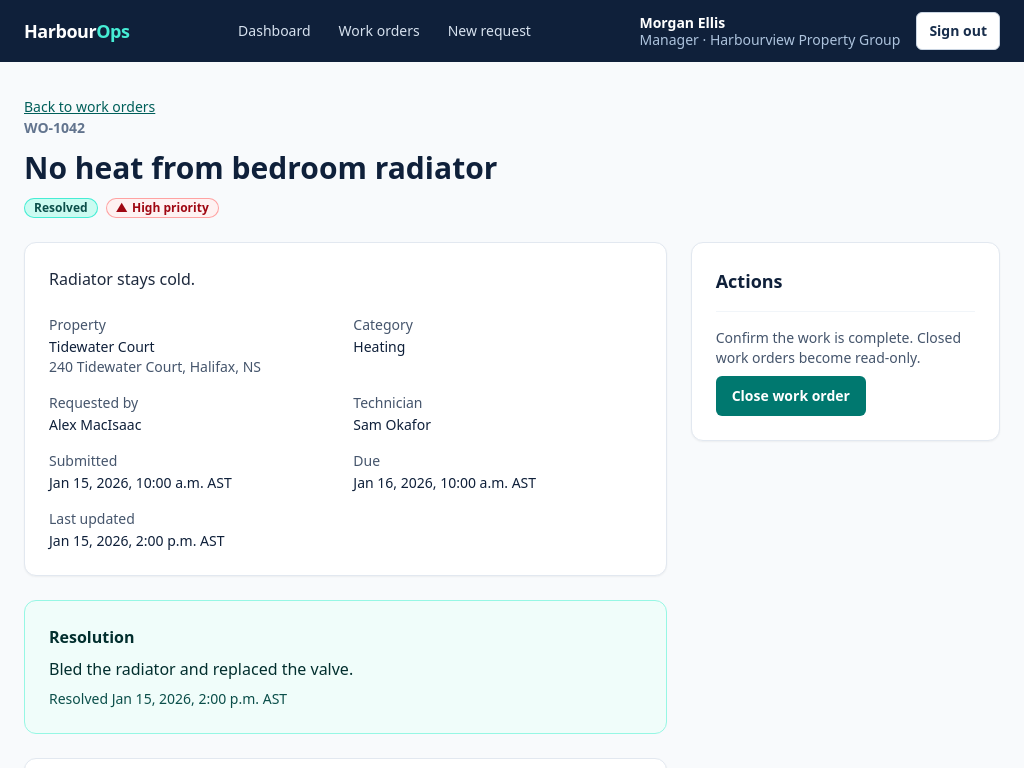
Test case: WorkOrderDetailPage › explains a stale update (409) and recovers by loading the latest version
The image size is (1024, 768).
Click the button "Close work order": (791, 396) [716, 376, 866, 416]
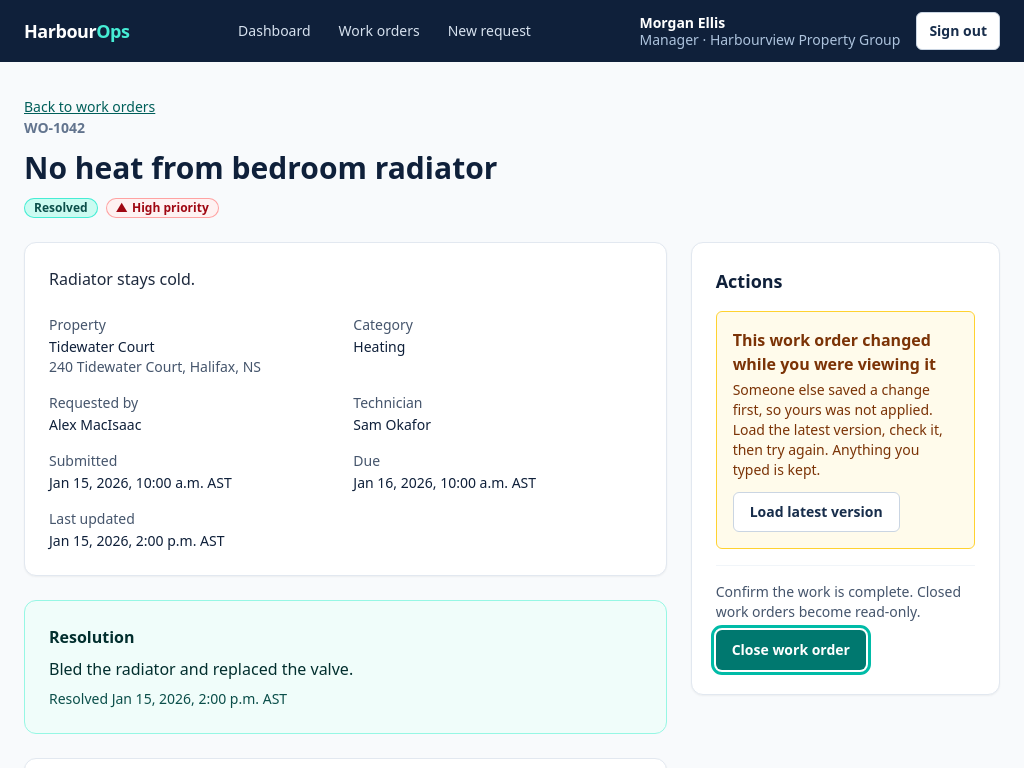
Expected: the message shows "This work order changed while you were viewing it", [733, 329, 936, 375]
Click the button "Load latest version": (816, 512) [733, 492, 900, 532]
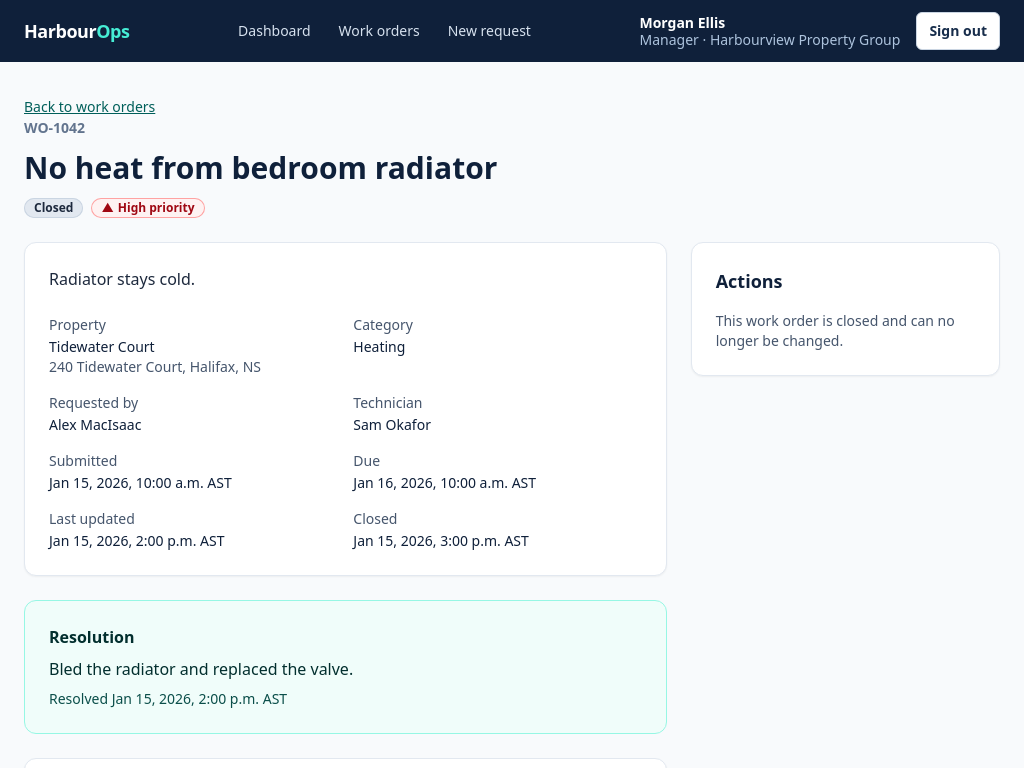
Expected: the text "This work order is closed and can no longer be changed." is shown, [716, 311, 975, 351]
Expected: the message is gone
